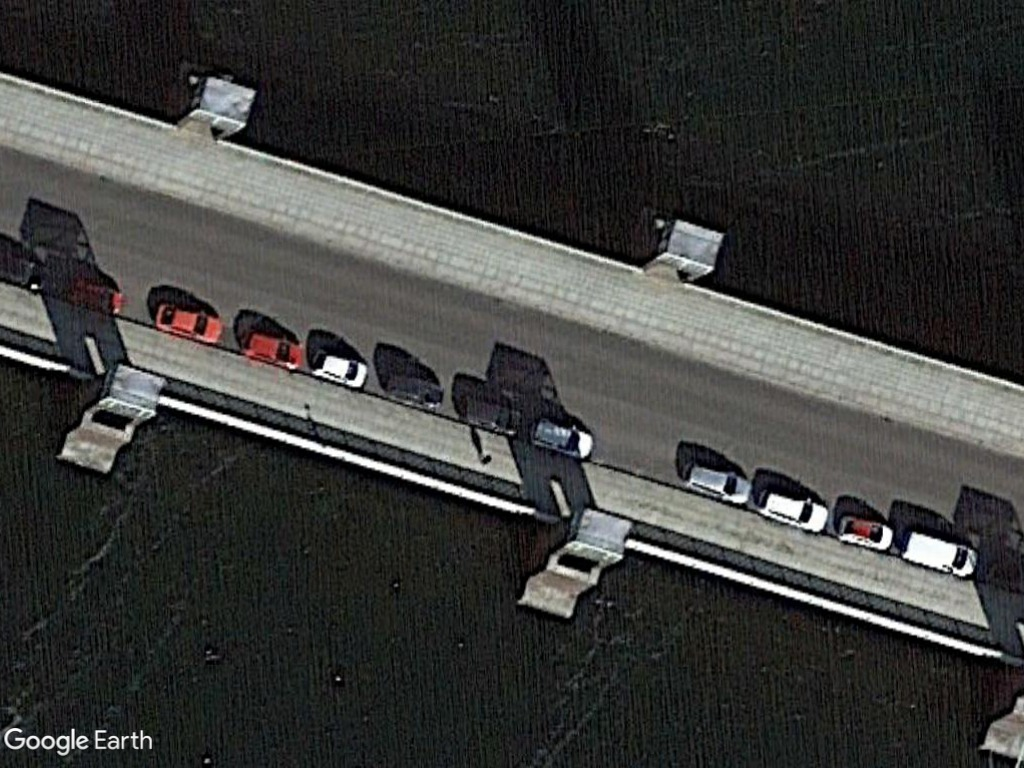car: (753, 487, 834, 537), (677, 457, 757, 507), (234, 324, 307, 375), (153, 299, 230, 347), (526, 412, 599, 461), (832, 511, 904, 559), (305, 345, 371, 392)
van: (896, 524, 984, 583)
